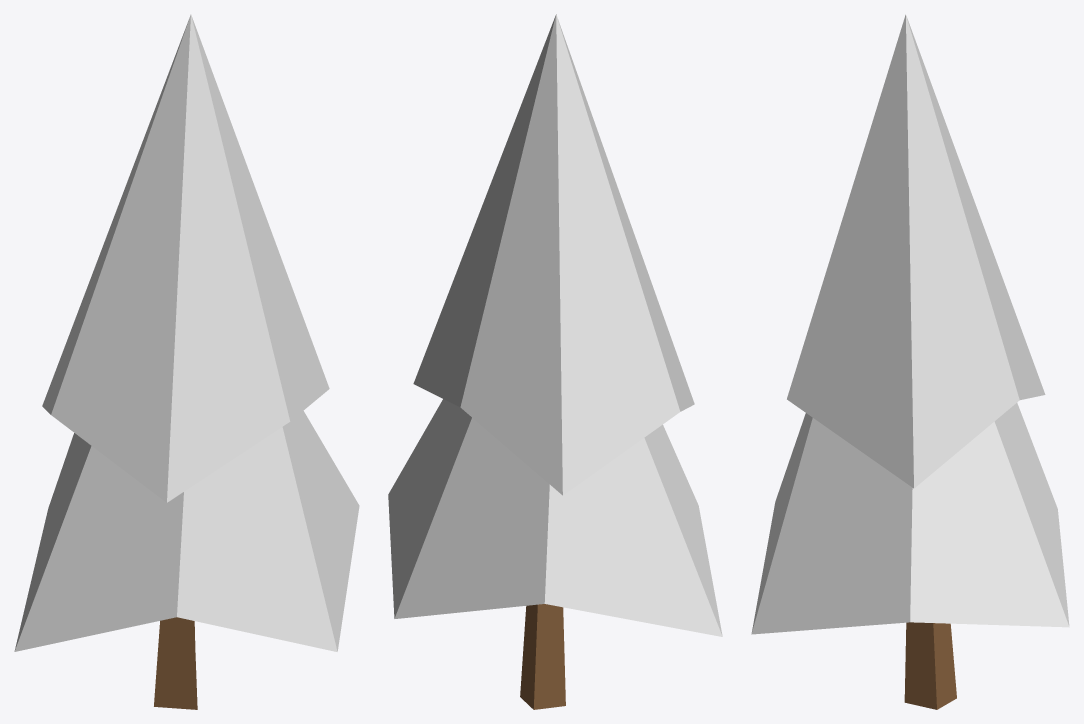
Rendered from Pine_Tree_OneSided_s_Snow_06_LOD.fbx.
3 views of the same model, side by side, from view 1: azimuth 30°, elevation 25°; view 2: azimuth 150°, elevation 25°; view 3: azimuth 270°, elevation 25° (orthographic). The views are drawn at different scales.
Visible parts, largest first — view 1: Pine_Tree_OneSided_s_Snow_06_LOD0; view 2: Pine_Tree_OneSided_s_Snow_06_LOD0; view 3: Pine_Tree_OneSided_s_Snow_06_LOD0.
Part boxes in pixels (x1=…): Pine_Tree_OneSided_s_Snow_06_LOD0: x1=14, y1=14, x2=359, y2=709; Pine_Tree_OneSided_s_Snow_06_LOD0: x1=388, y1=14, x2=722, y2=709; Pine_Tree_OneSided_s_Snow_06_LOD0: x1=751, y1=14, x2=1069, y2=709.
Size of what is drawn, in the model's own units: 108 by 209 by 87.99.
